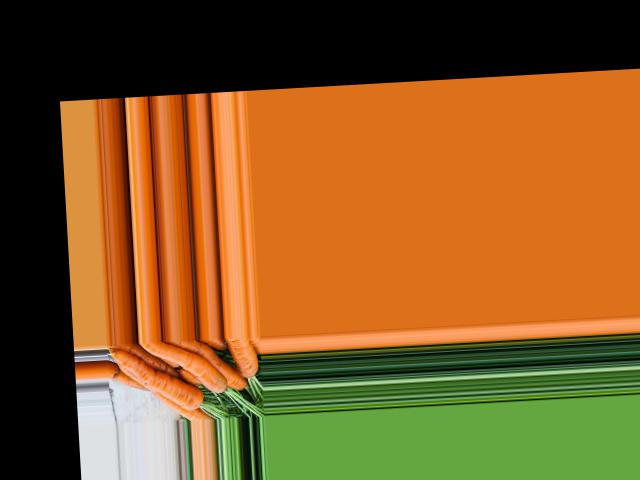carrot: (228, 337, 263, 385)
